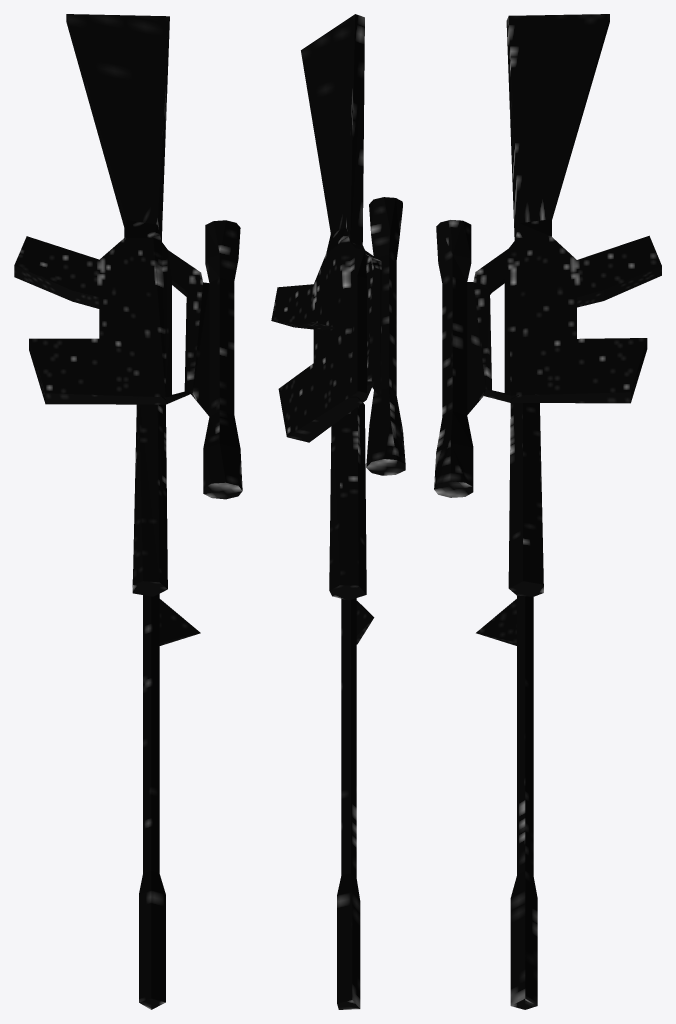
Rendered from SniperRifle.gltf.
3 views of the same model, side by side, from view 1: azimuth 90°, elevation 25°; view 2: azimuth 150°, elevation 25°; view 3: azimuth 270°, elevation 25° (orthographic).
Parts seen in each view (by area): view 1: SniperRifle; view 2: SniperRifle; view 3: SniperRifle.
Part boxes in pixels (left/top/right/bottom): SniperRifle: left=14, top=14, right=242, bottom=1009; SniperRifle: left=271, top=14, right=405, bottom=1009; SniperRifle: left=434, top=14, right=661, bottom=1009.
Size of the model in its own units: 0.0427 by 1.15 by 0.241.
1 material, 1 textured.
